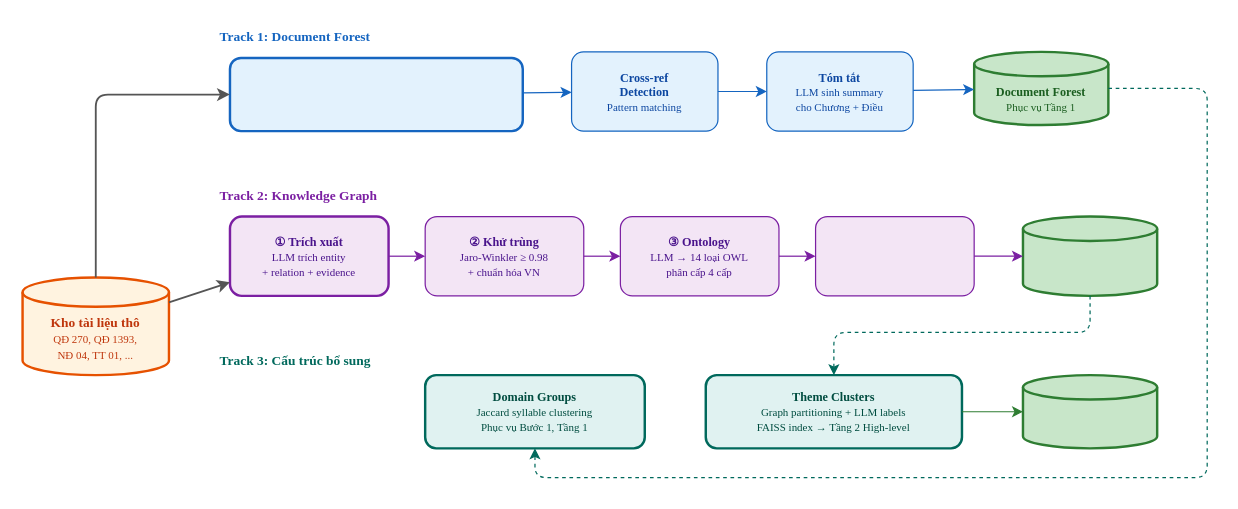
Some shapes in this 1238 by 509 pixel diagram are drawn without their labels. The shapes that lost their labels are listed below. From the top down, each one's box as (x1, y1, x2, y2) in pixels, then its label:
(228, 56, 523, 132): Parser Regex phân cấp Văn bản→Chương→Mục→Điều→Khoản→Điểm
(814, 215, 974, 296): ④ Tinh chỉnh Expert-in-the-loop thêm/xóa/trọng số
(1021, 215, 1158, 296): Knowledge Graph Phục vụ Tầng 2, 3
(1021, 373, 1158, 449): Vector Embeddings FAISS index Phục vụ Tầng 2
